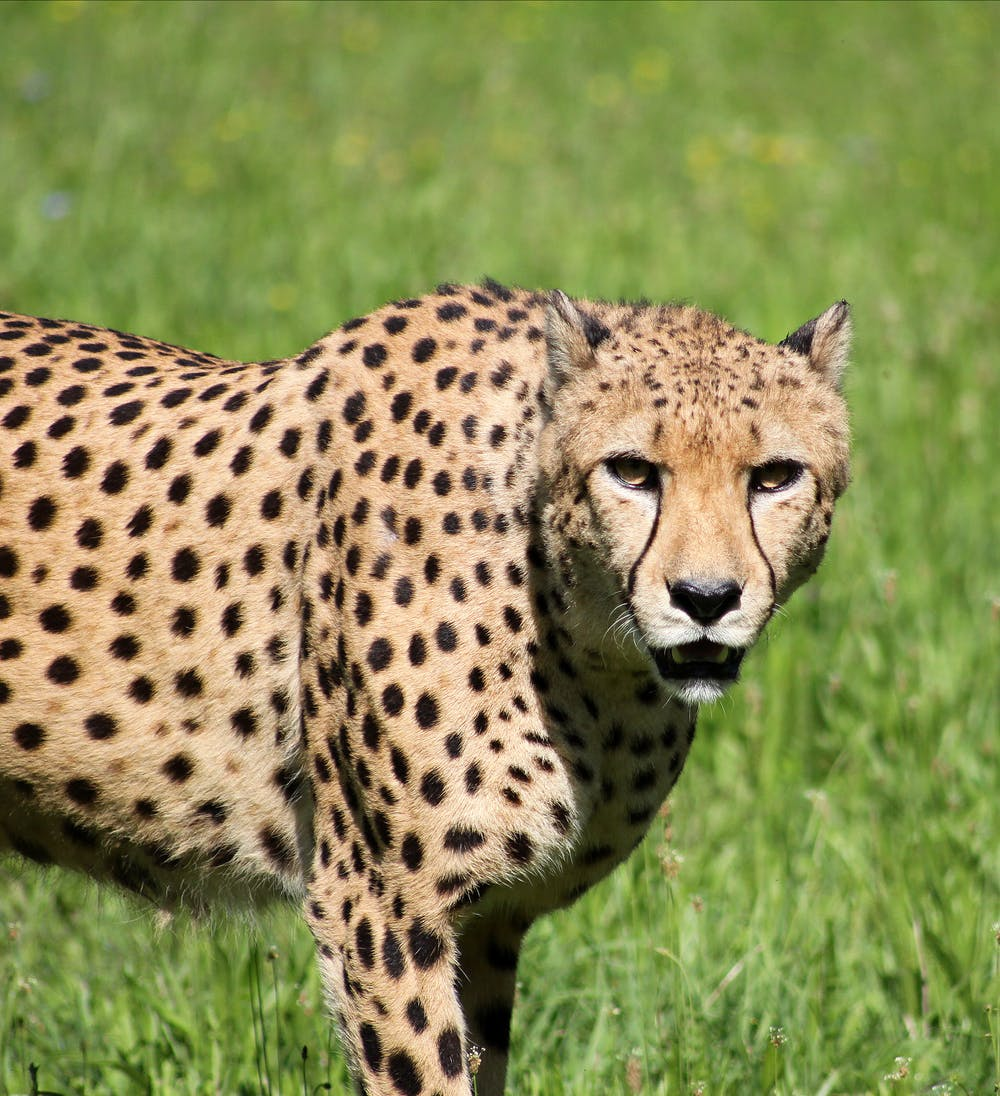cheetah: (509, 262, 876, 727)
